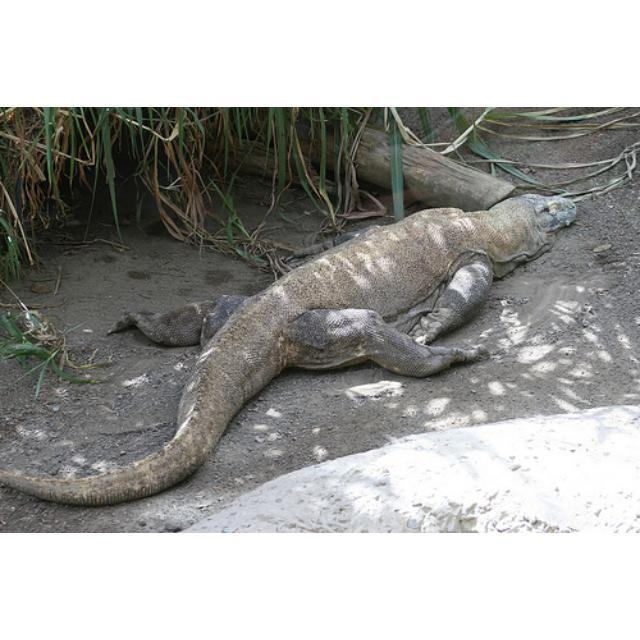KomodoDragon: (1, 192, 582, 509)
